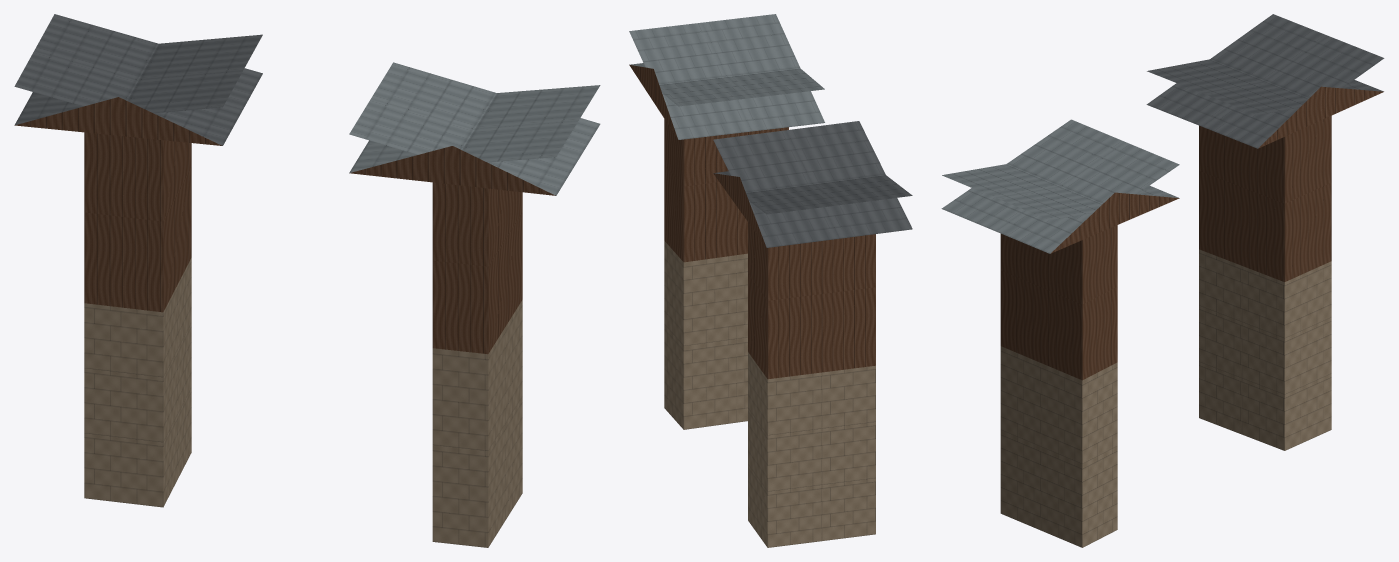
The model's file is bld_c11_11_498.gltf.
3 renders of one model, left to right at view 1: azimuth 30°, elevation 25°; view 2: azimuth 150°, elevation 25°; view 3: azimuth 270°, elevation 25°, orthographic. The views are drawn at different scales.
Visible parts, largest first — view 1: bld_c11_11_498; view 2: bld_c11_11_498; view 3: bld_c11_11_498.
Boxes of the visible parts, x1=… form: bld_c11_11_498: x1=14, y1=14, x2=600, y2=547; bld_c11_11_498: x1=629, y1=14, x2=912, y2=547; bld_c11_11_498: x1=941, y1=14, x2=1384, y2=547.
Bounding box in the file's own units: 12.33 × 10.9 × 11.96.
Materials: 5 (5 with a texture image).
